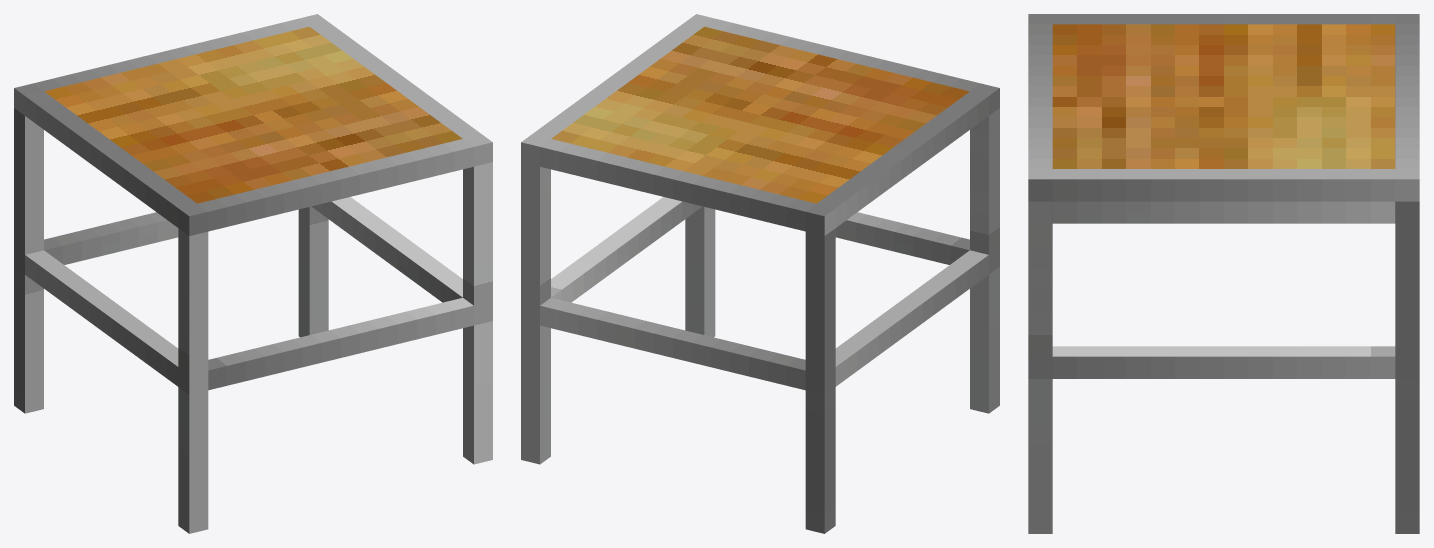
File: scaffold.obj
The picture shows the model from 3 angles, left to right: view 1: azimuth 30°, elevation 25°; view 2: azimuth 150°, elevation 25°; view 3: azimuth 270°, elevation 25°; orthographic projection. The views are drawn at different scales.
Parts seen in each view (by area): view 1: Cube; view 2: Cube; view 3: Cube.
Boxes of the visible parts, bbox=[...] form: Cube: bbox=[14, 14, 492, 533]; Cube: bbox=[521, 14, 999, 533]; Cube: bbox=[1028, 14, 1419, 533].
Size of the model in its own units: 1 by 1 by 1.
